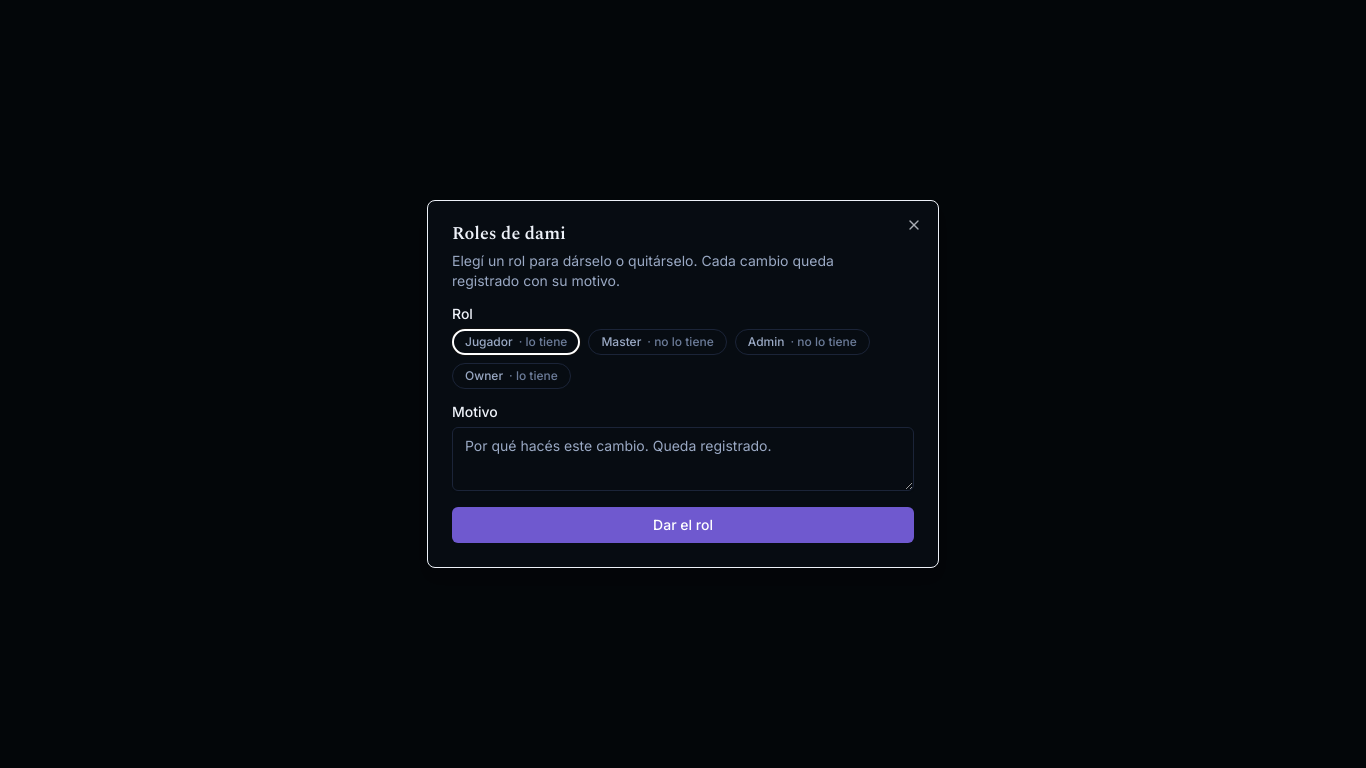
RoleChangeDialog › explains LAST_OWNER from its code
The image size is (1366, 768).
Click the button "Owner· lo tiene": (511, 376) [452,363,571,389]
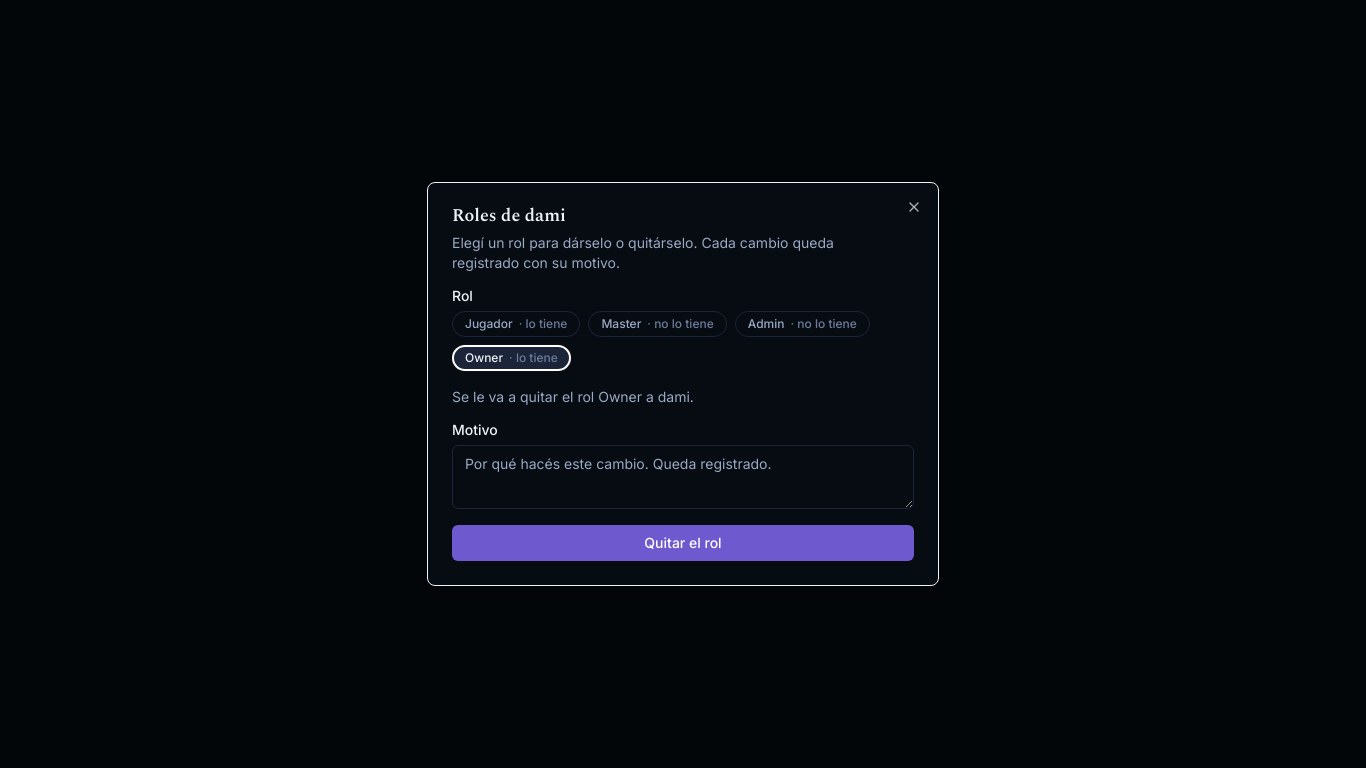
In the text box labelled "Motivo": (683, 477) [452,445,914,509], type "Se va del proyecto"
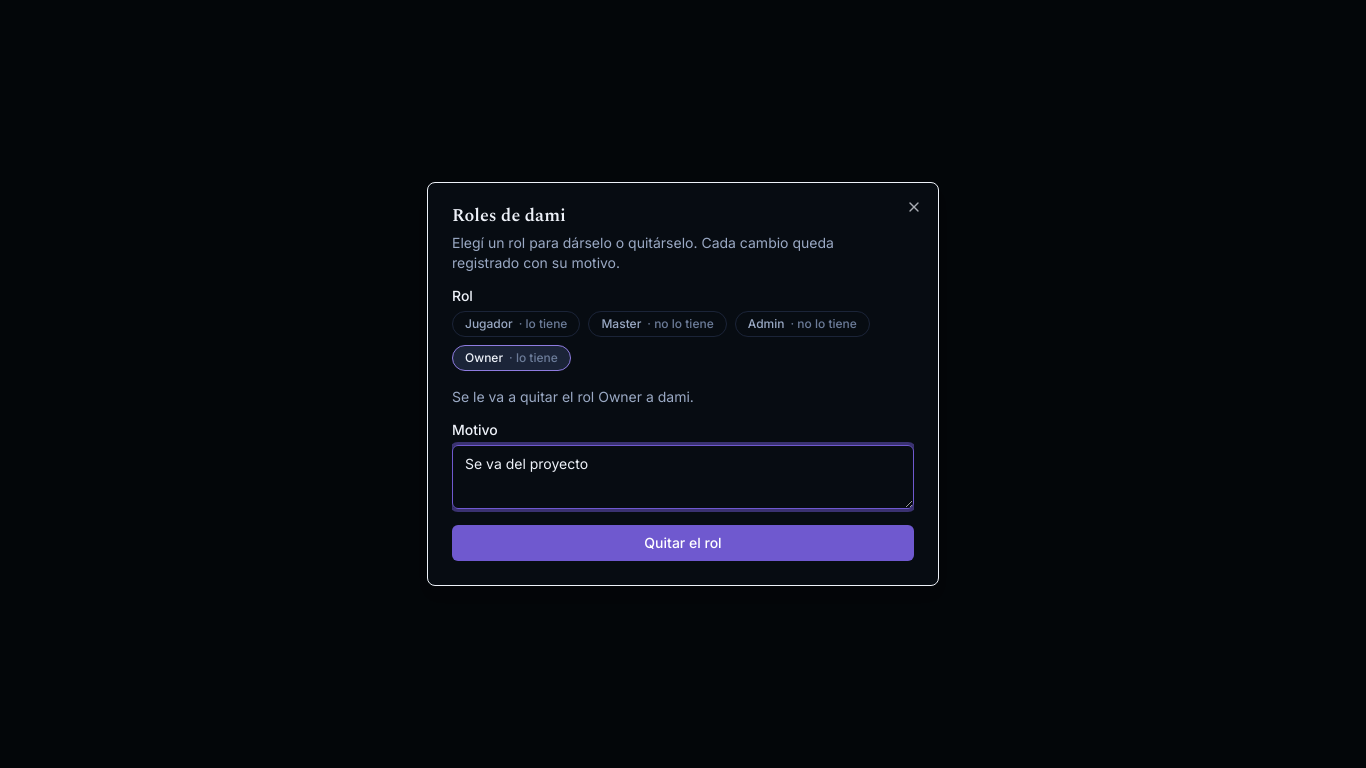
Click the button "Quitar el rol": (683, 543) [452,525,914,561]
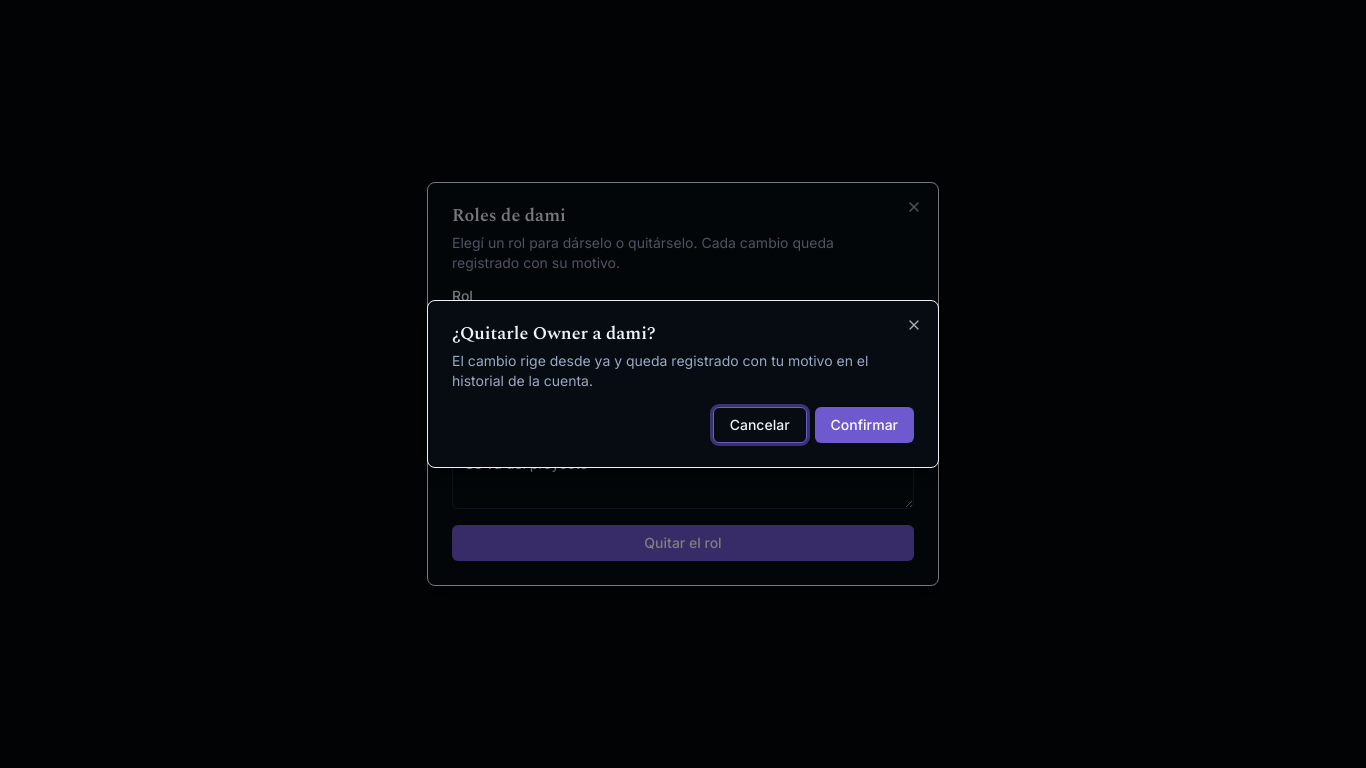
Click the button "Confirmar": (864, 425) [815,407,914,443]
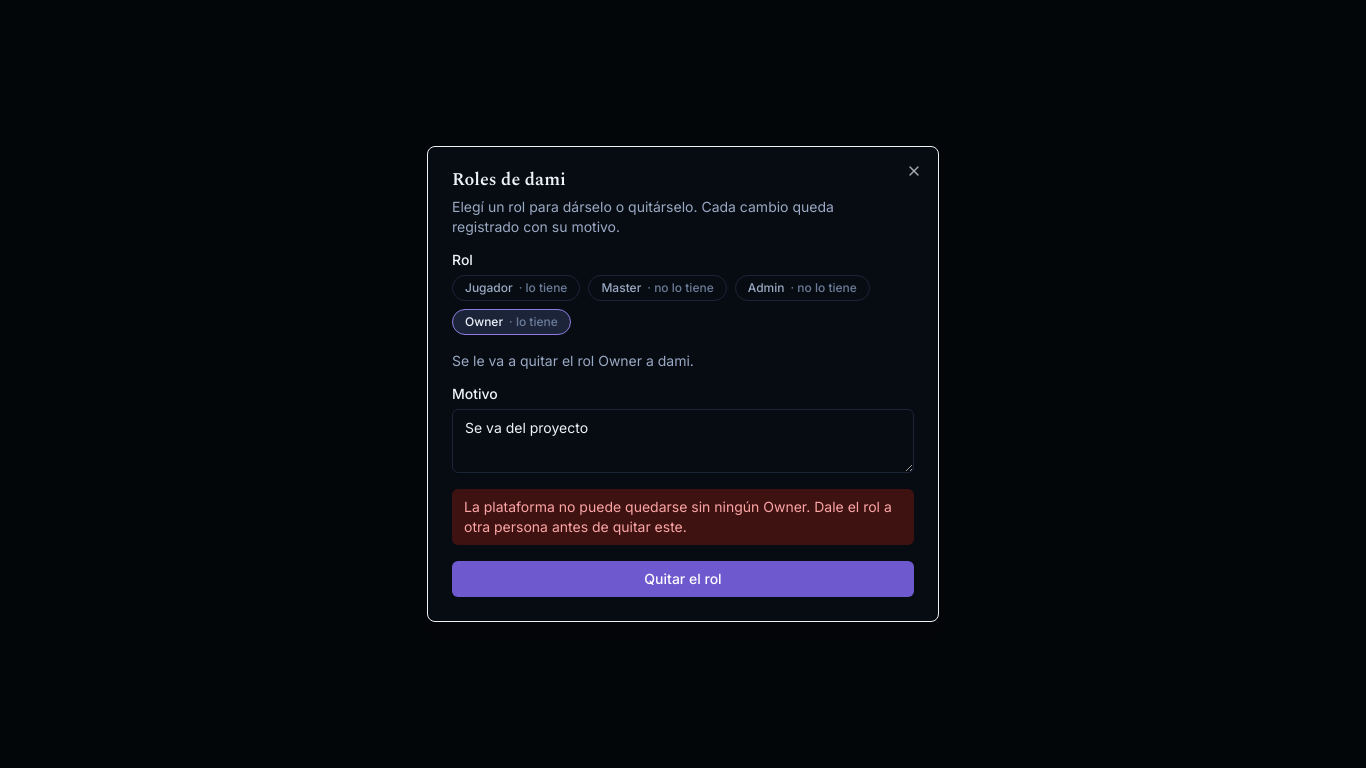
Now the message shows "La plataforma no puede quedarse sin ningún Owner. Dale el rol a otra persona antes de quitar este.", box [464,498,892,535]
